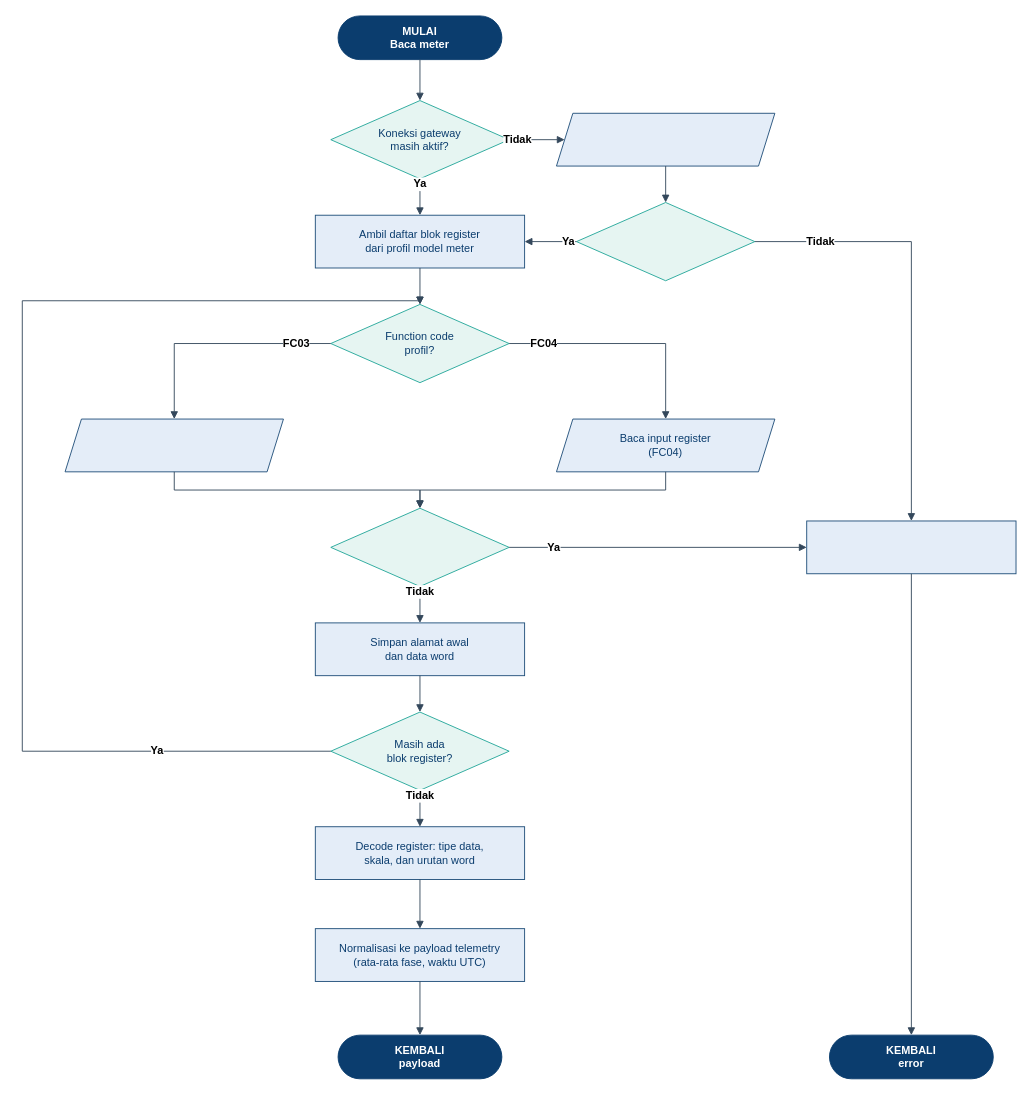
Some shapes in this 1032 by 1095 pixel diagram are drawn without their labels. Here are the shapes that lost their labels. From the top down, the centre of each, then its label:
At (665,139): "Buka koneksi Modbus TCP ke gateway RS485-Ethernet".
At (665,241): "Koneksi berhasil?".
At (173,445): "Baca holding register (FC03)".
At (419,546): "Respons error?".
At (911,547): "Angkat error ke poller".
